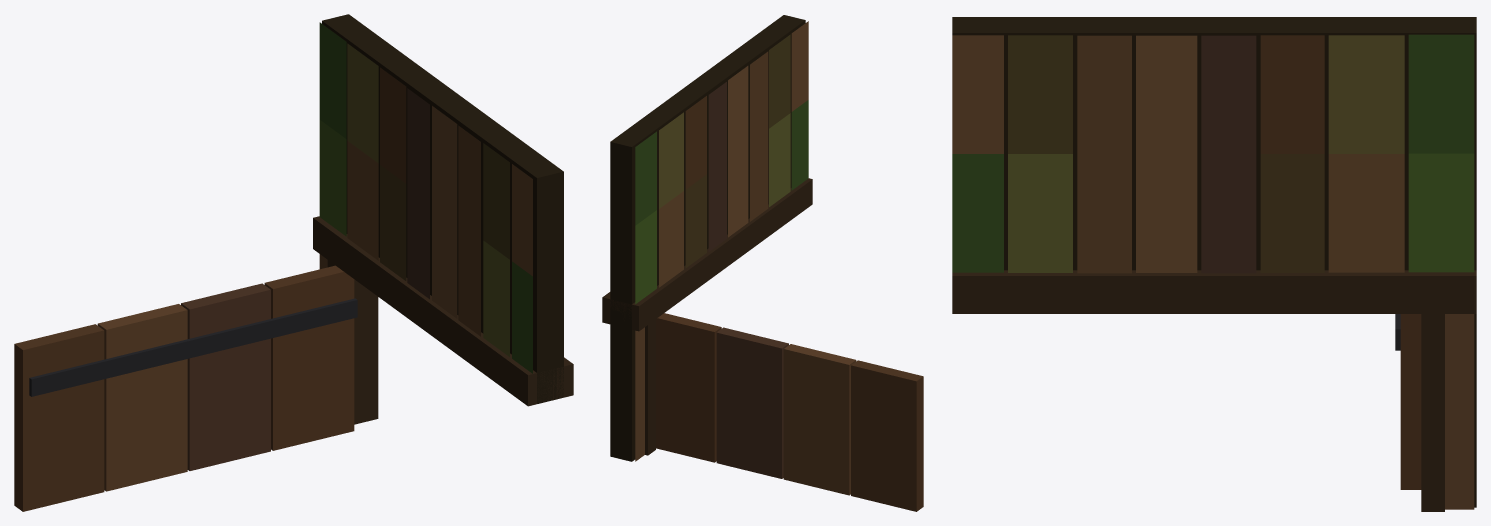
The model's file is wall-mossy-door-open-high-l.glb.
3 views of the same model, side by side, from view 1: azimuth 30°, elevation 25°; view 2: azimuth 150°, elevation 25°; view 3: azimuth 270°, elevation 25° (orthographic). The views are drawn at different scales.
Visible parts, largest first — view 1: wall-mossy-door-open-high-l; view 2: wall-mossy-door-open-high-l; view 3: wall-mossy-door-open-high-l.
Part boxes in pixels (x1,y1,x2,y2): wall-mossy-door-open-high-l: (14,14,573,511); wall-mossy-door-open-high-l: (602,15,923,511); wall-mossy-door-open-high-l: (952,17,1476,511).
Size of the model in its own units: 0.984 by 1 by 1.
